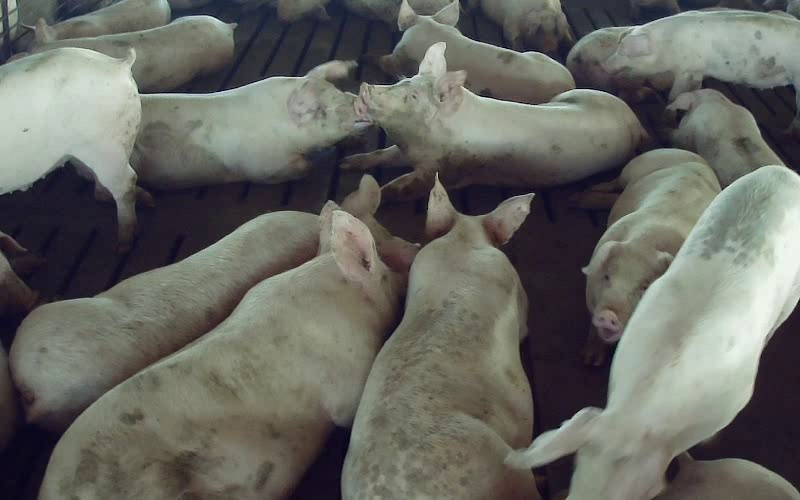pig: (41, 204, 404, 499), (507, 166, 799, 499), (10, 211, 318, 430), (343, 179, 538, 499), (343, 43, 645, 198), (570, 149, 719, 365), (131, 60, 367, 188), (606, 10, 799, 128), (379, 0, 574, 103), (34, 15, 235, 92), (667, 89, 783, 187), (480, 0, 573, 53)
